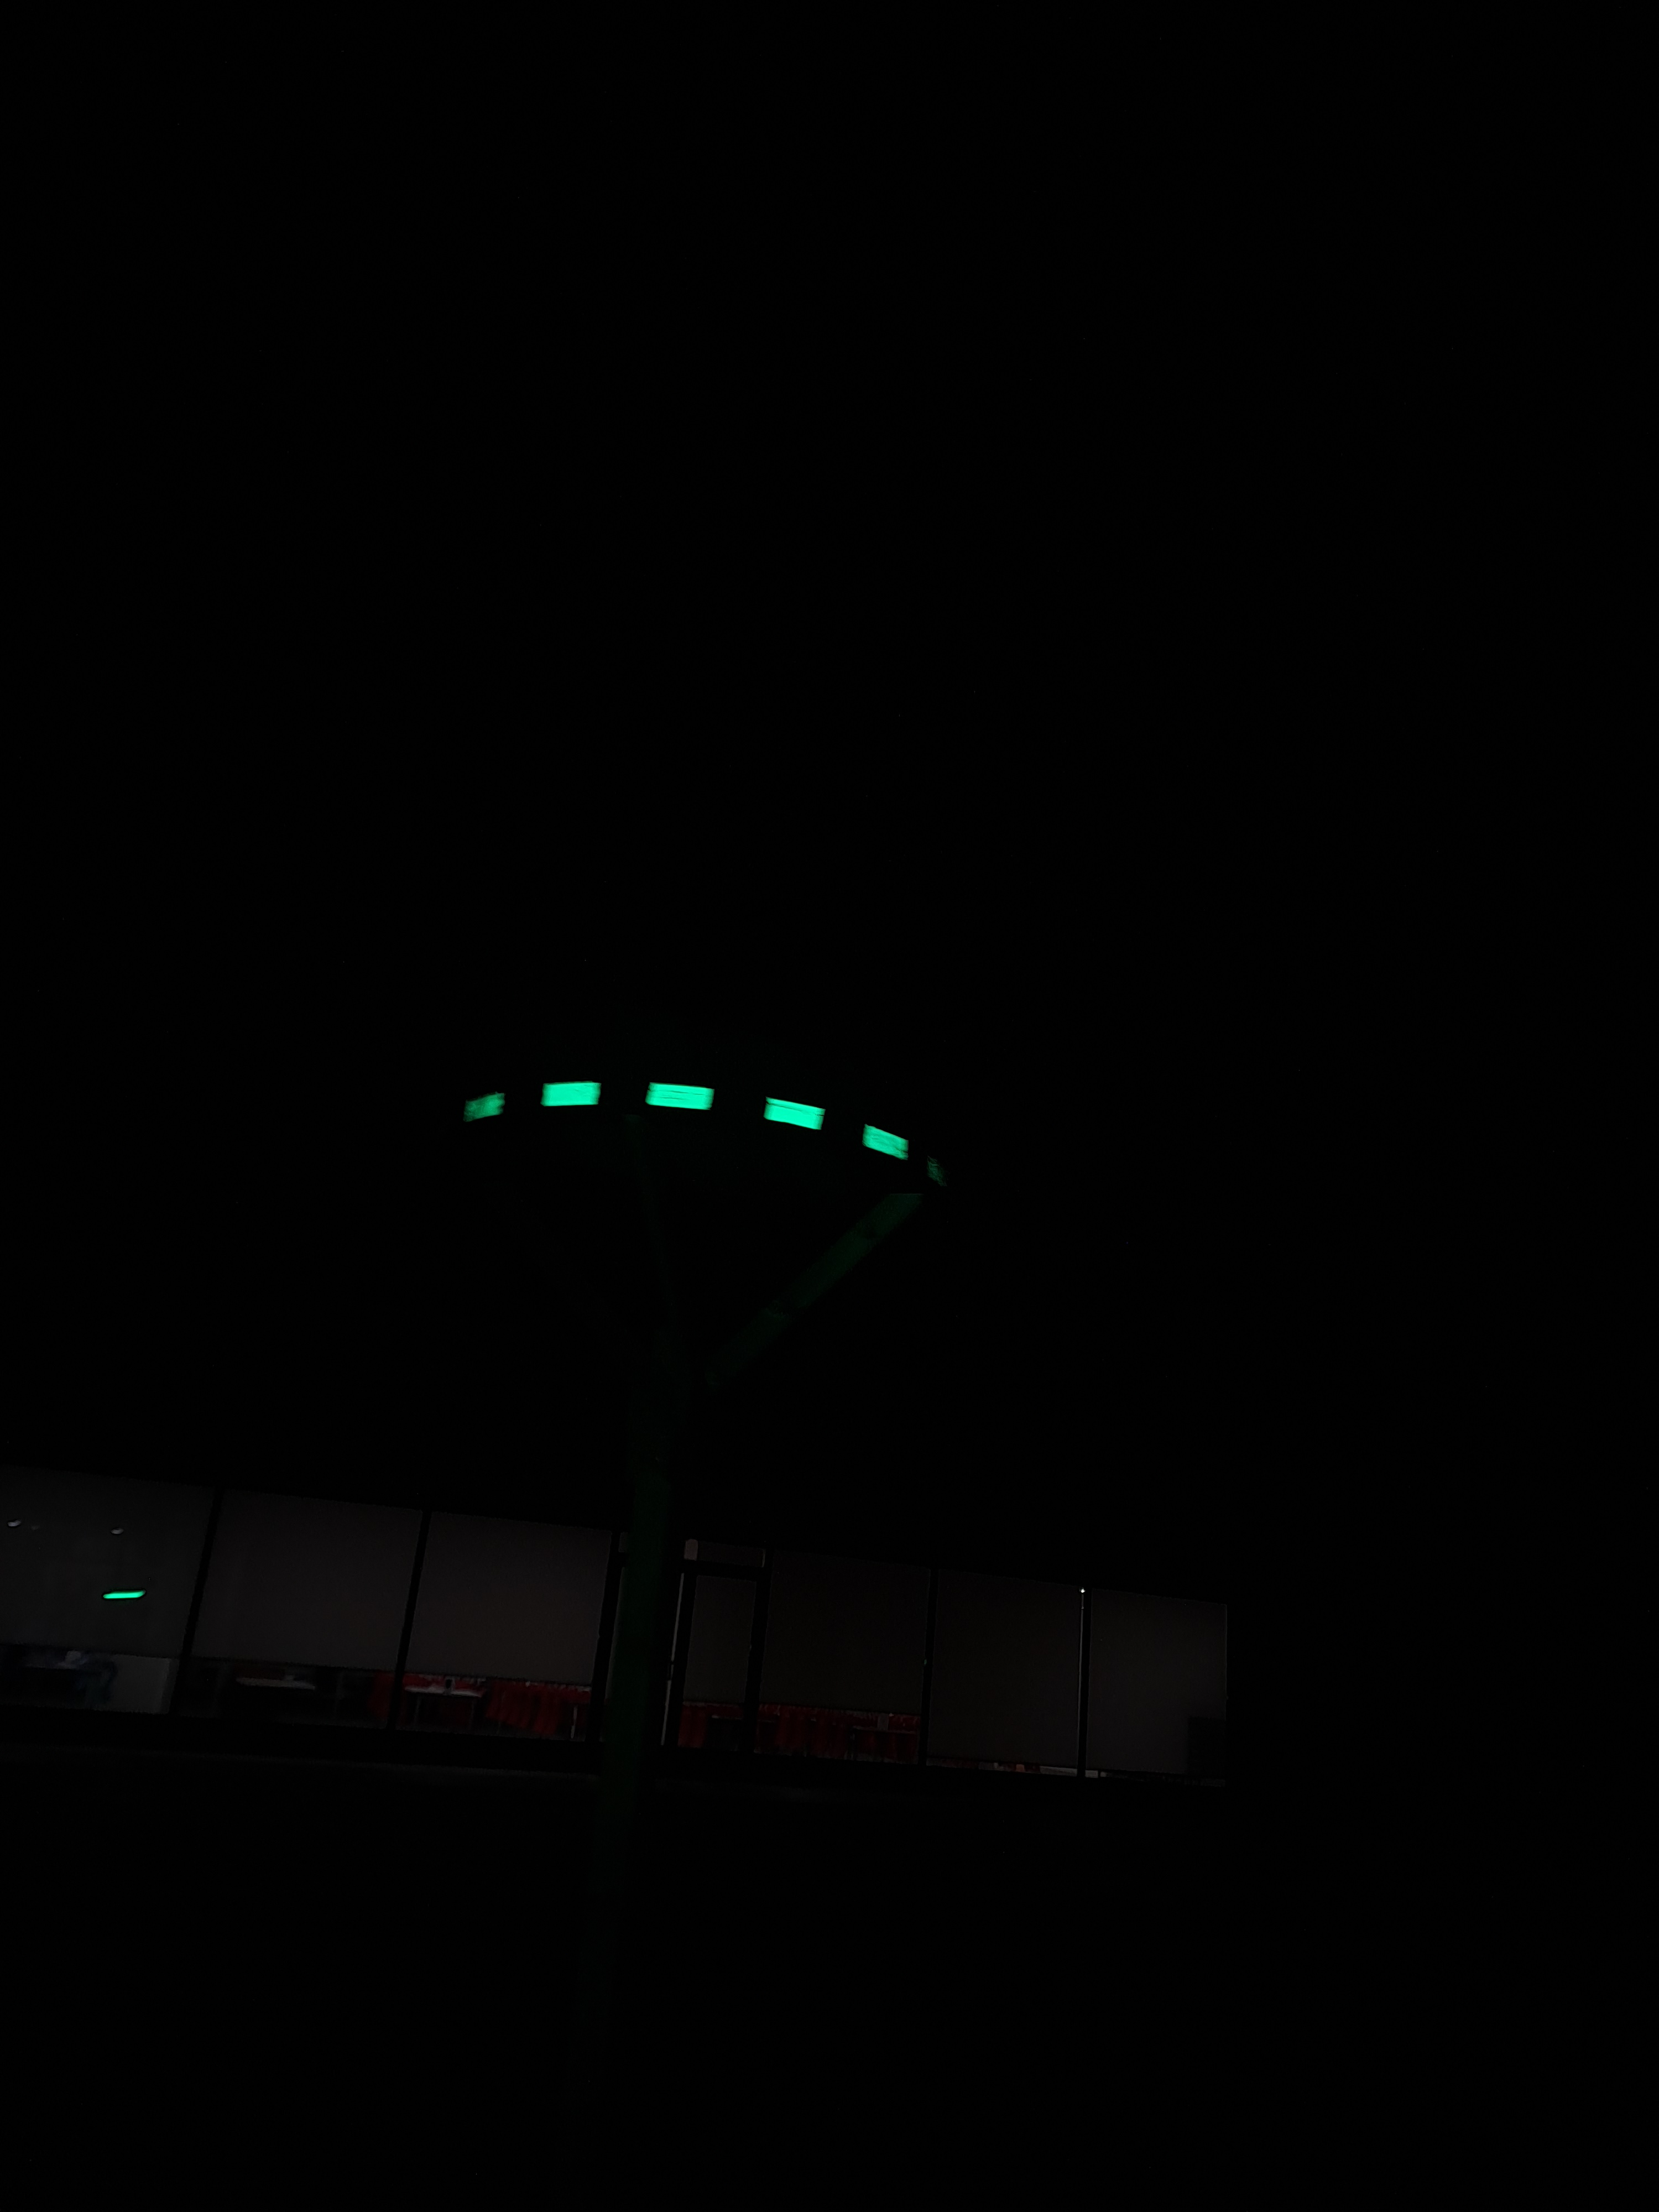hoop: (457, 1069, 915, 1163)
